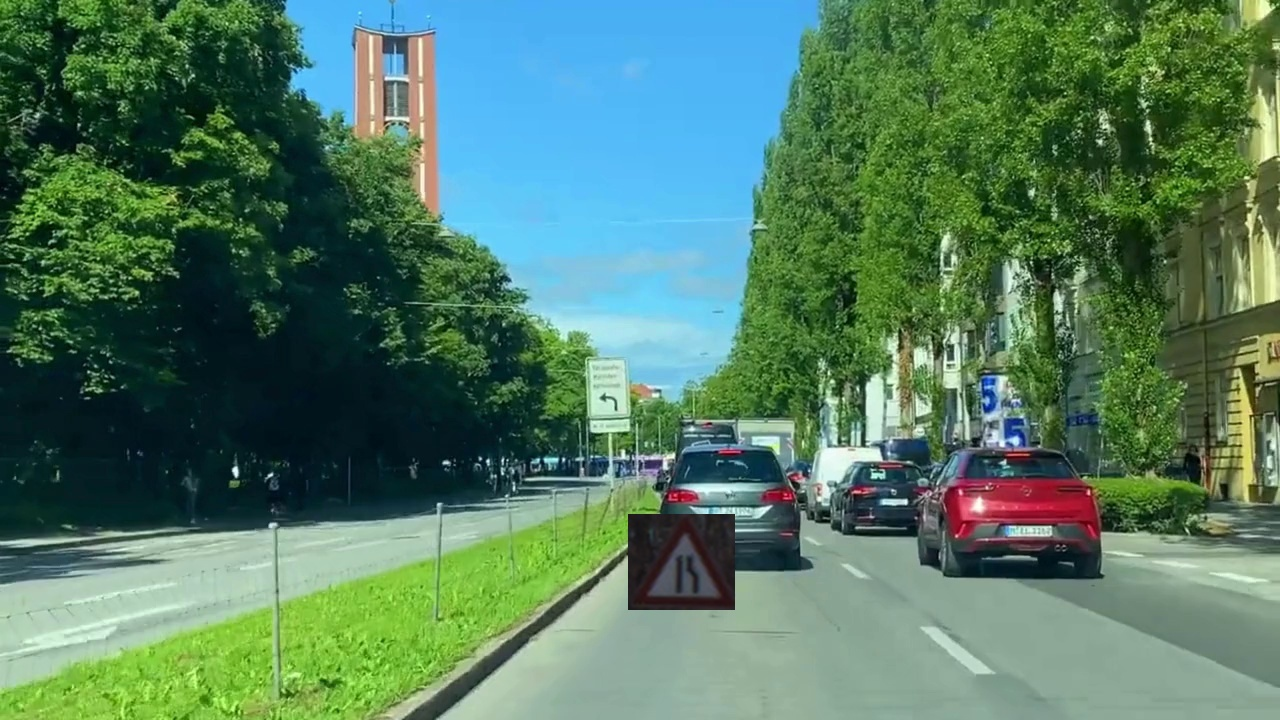Road narrows: (628, 514, 735, 610)
